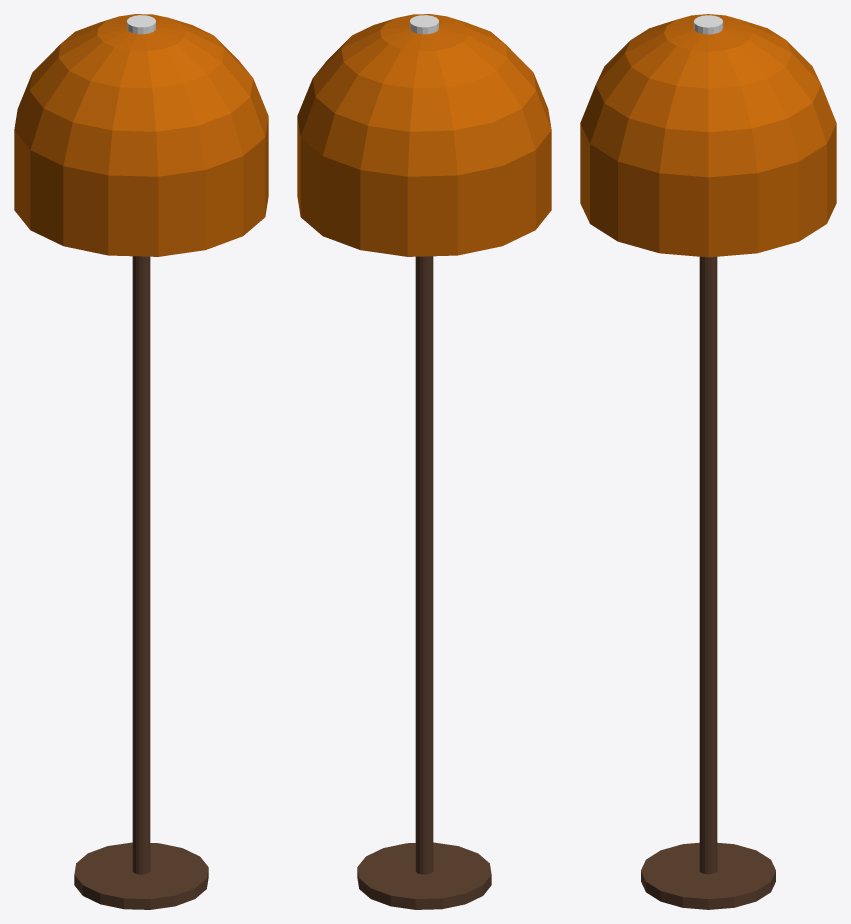
The model's file is 70s.Lamp.Standing.fbx.
The picture shows the model from 3 angles, left to right: view 1: azimuth 30°, elevation 25°; view 2: azimuth 150°, elevation 25°; view 3: azimuth 270°, elevation 25°; orthographic projection.
Visible parts, largest first — view 1: 70s.Lamp.Standing; view 2: 70s.Lamp.Standing; view 3: 70s.Lamp.Standing.
Part boxes in pixels (x1,y1,x2,y2): 70s.Lamp.Standing: (14,14,268,909); 70s.Lamp.Standing: (297,14,551,909); 70s.Lamp.Standing: (580,14,836,909).
Bounding box in the file's own units: 42.98 × 159 × 42.98.
